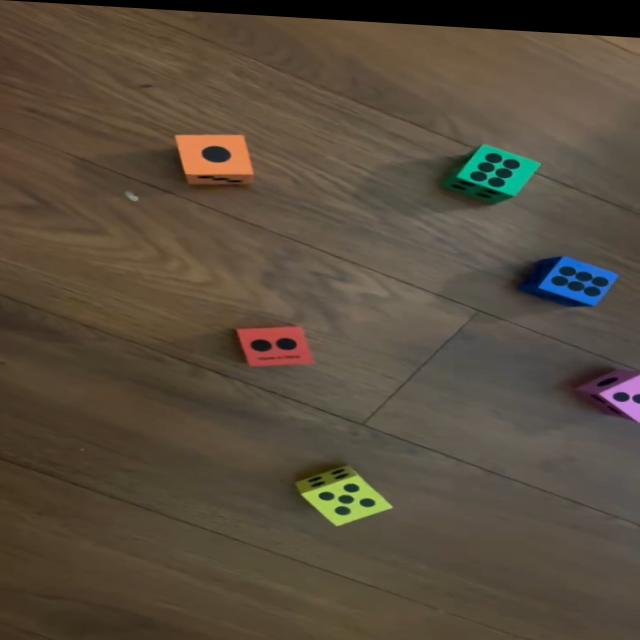blue_block: (522, 247, 618, 301)
red_block: (234, 318, 314, 367)
